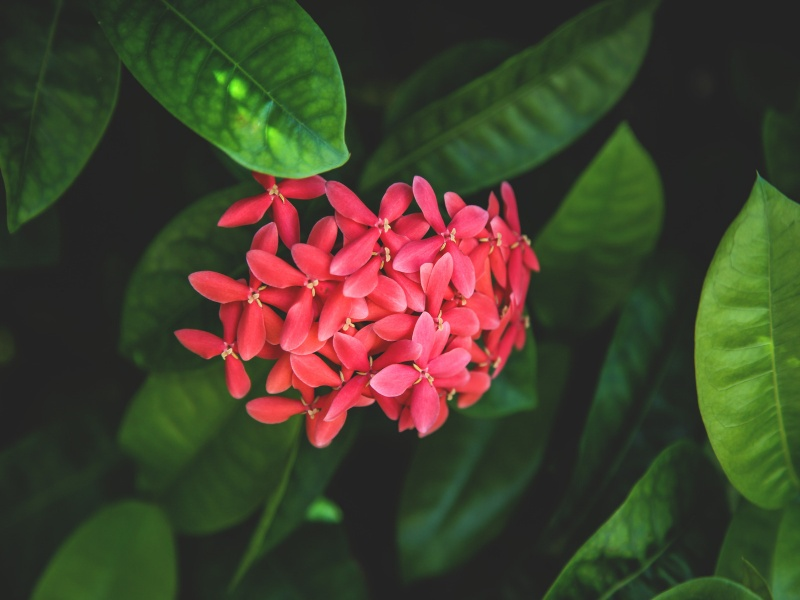Ixora: (169, 129, 571, 464)
